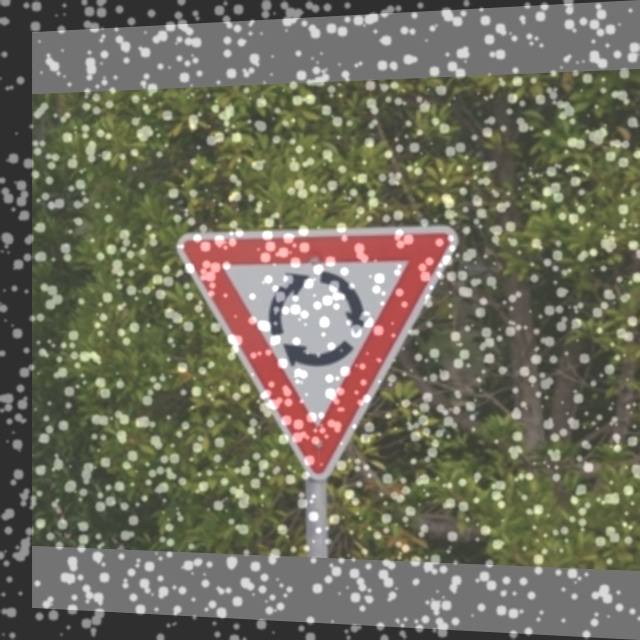Round_About: (181, 216, 455, 479)
